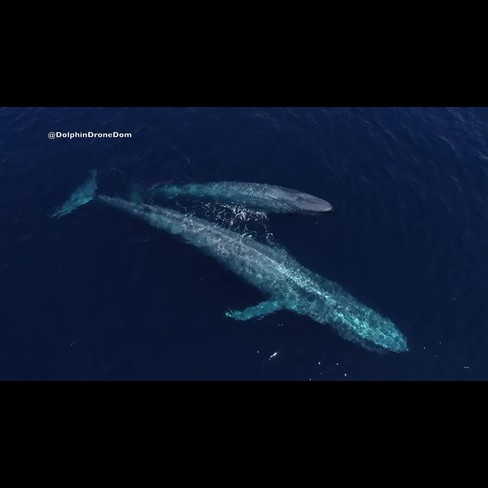bluewhale: (47, 165, 413, 364), (125, 173, 338, 229)
